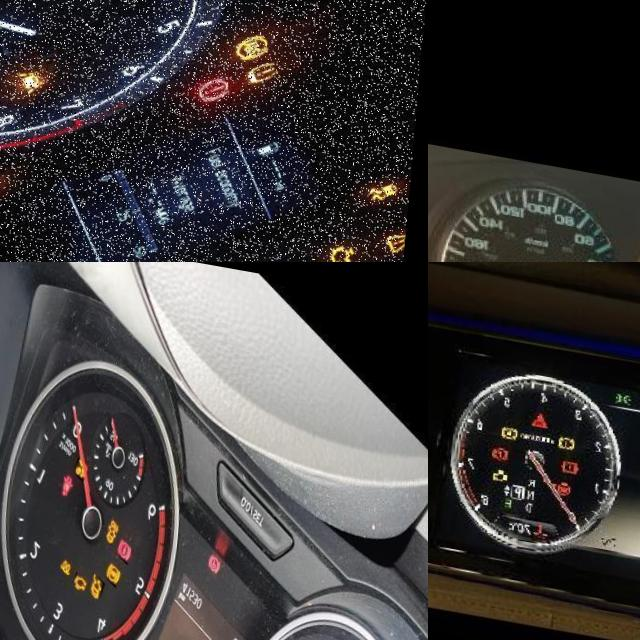Electronic Power Steering: (555, 467, 584, 492)
High Engine Coolant Temperature: (540, 516, 557, 532)
